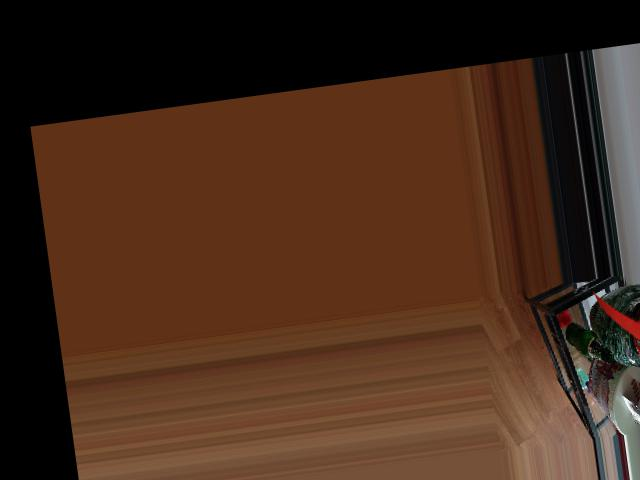beer: (563, 317, 613, 368)
